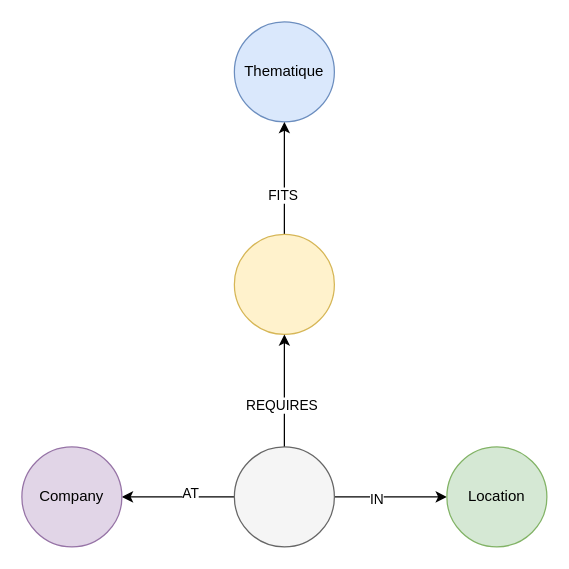
The diagram is 569 pixels wide and 569 high, and some of its shapes have lost their labels. Each missing label, with the centre of its shape:
Project: pixel 283 496
Skill: pixel 283 283
